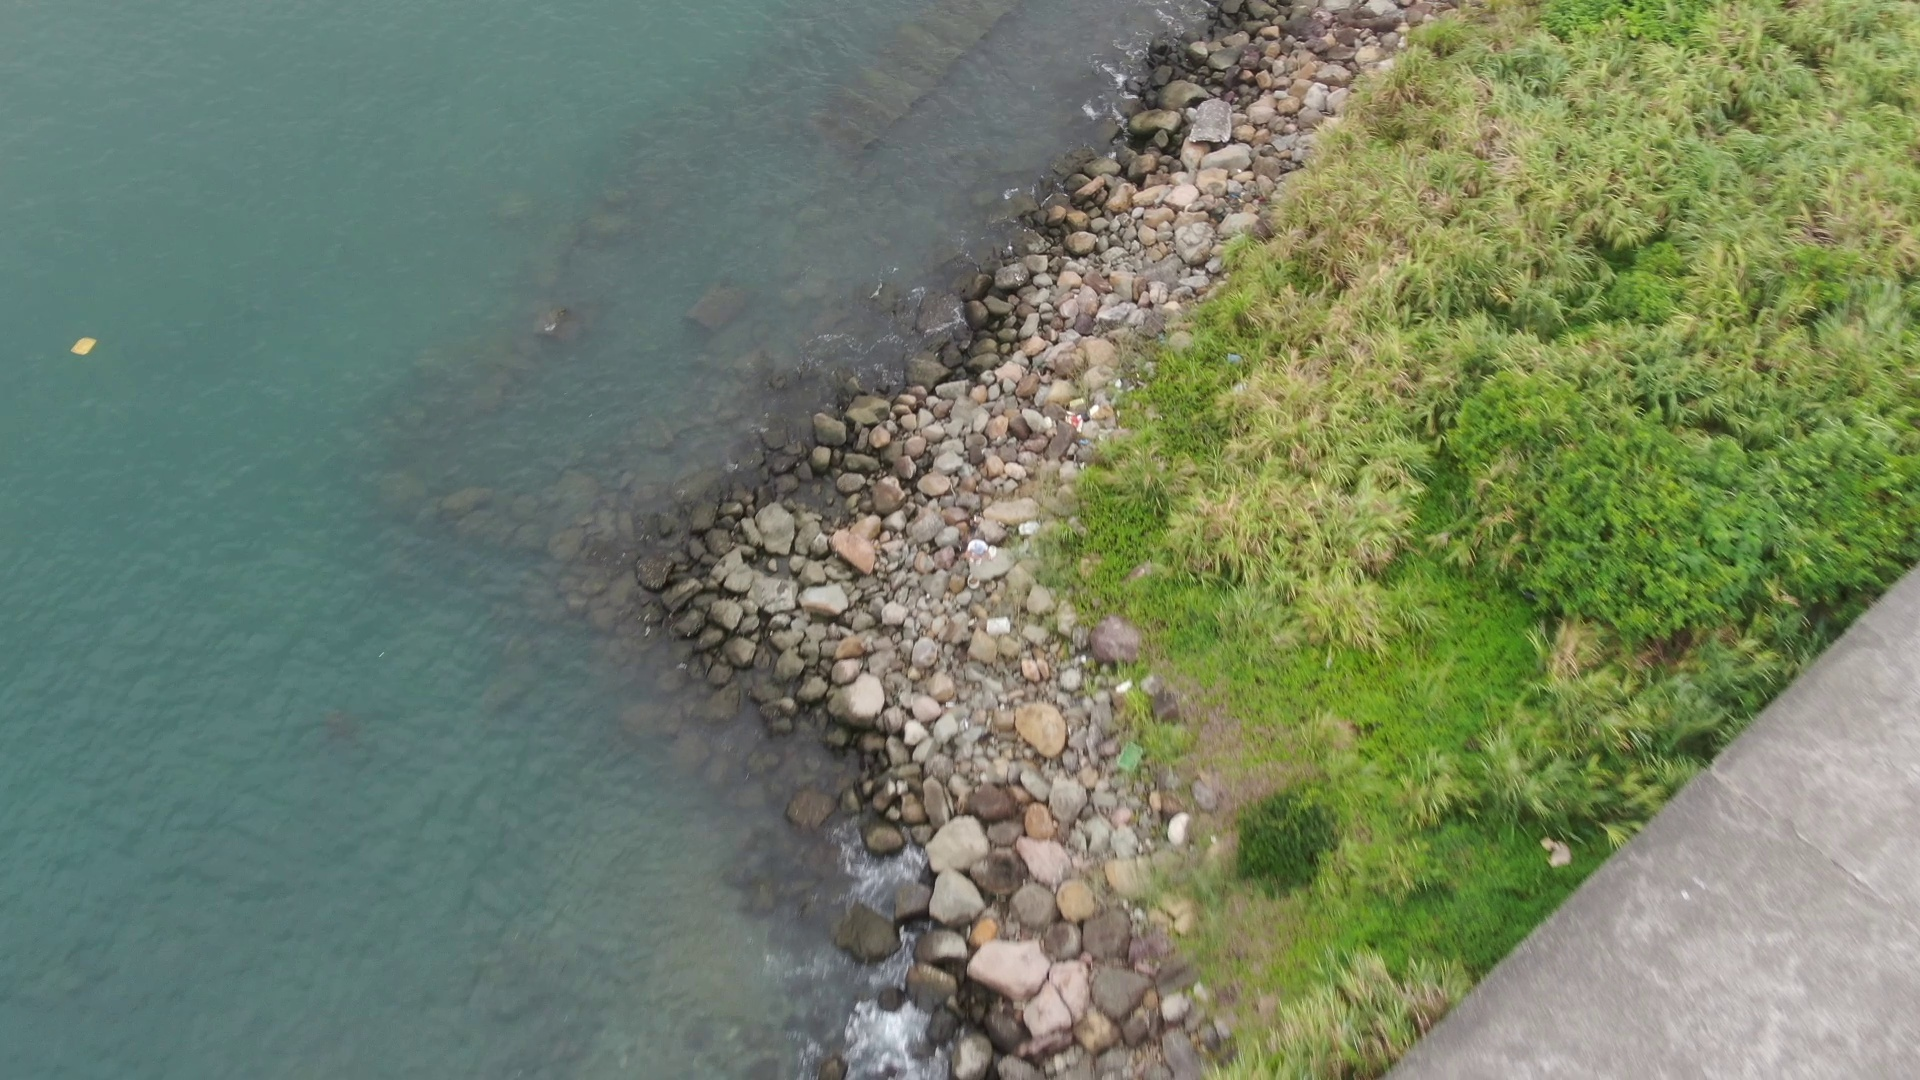garbage: (59, 318, 105, 369), (1112, 736, 1149, 774)
